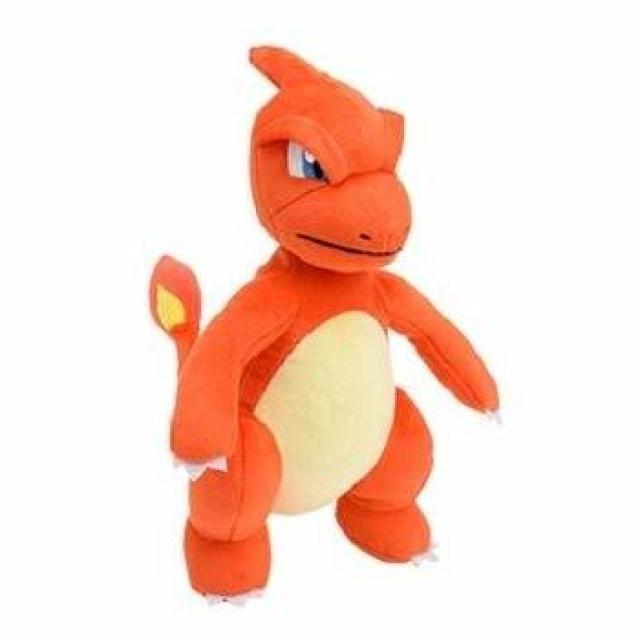Charmeleon: (159, 43, 452, 566)
